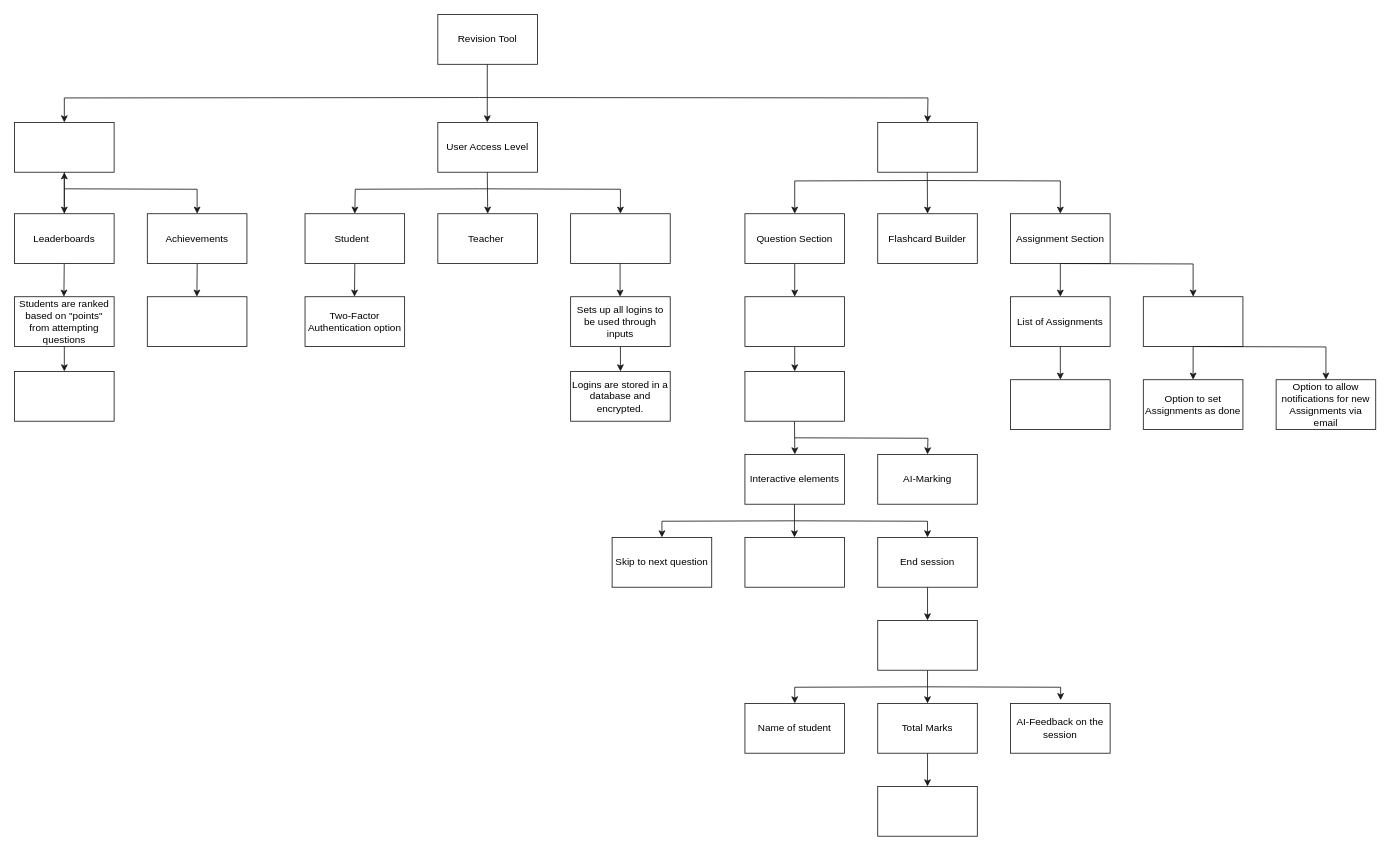
This 1390x851 diagram has some shape labels left out. Here are the shapes that lost their labels. From the top down, the centre of each, then its label:
At [64,147]: "Gamification".
At [927,147]: "Revision Section".
At [620,238]: "Technician".
At [196,321]: "Students sent certificates to their email once x amount of questions are done".
At [794,321]: "AI-Generated Questions".
At [1192,321]: "Settings".
At [64,396]: "Multiplier effects during exam season".
At [794,396]: "Answer form".
At [1060,404]: "Assignments set by Teacher.".
At [794,562]: "Hints".
At [927,645]: "Report sent to teacher".
At [927,811]: "How long it took".
